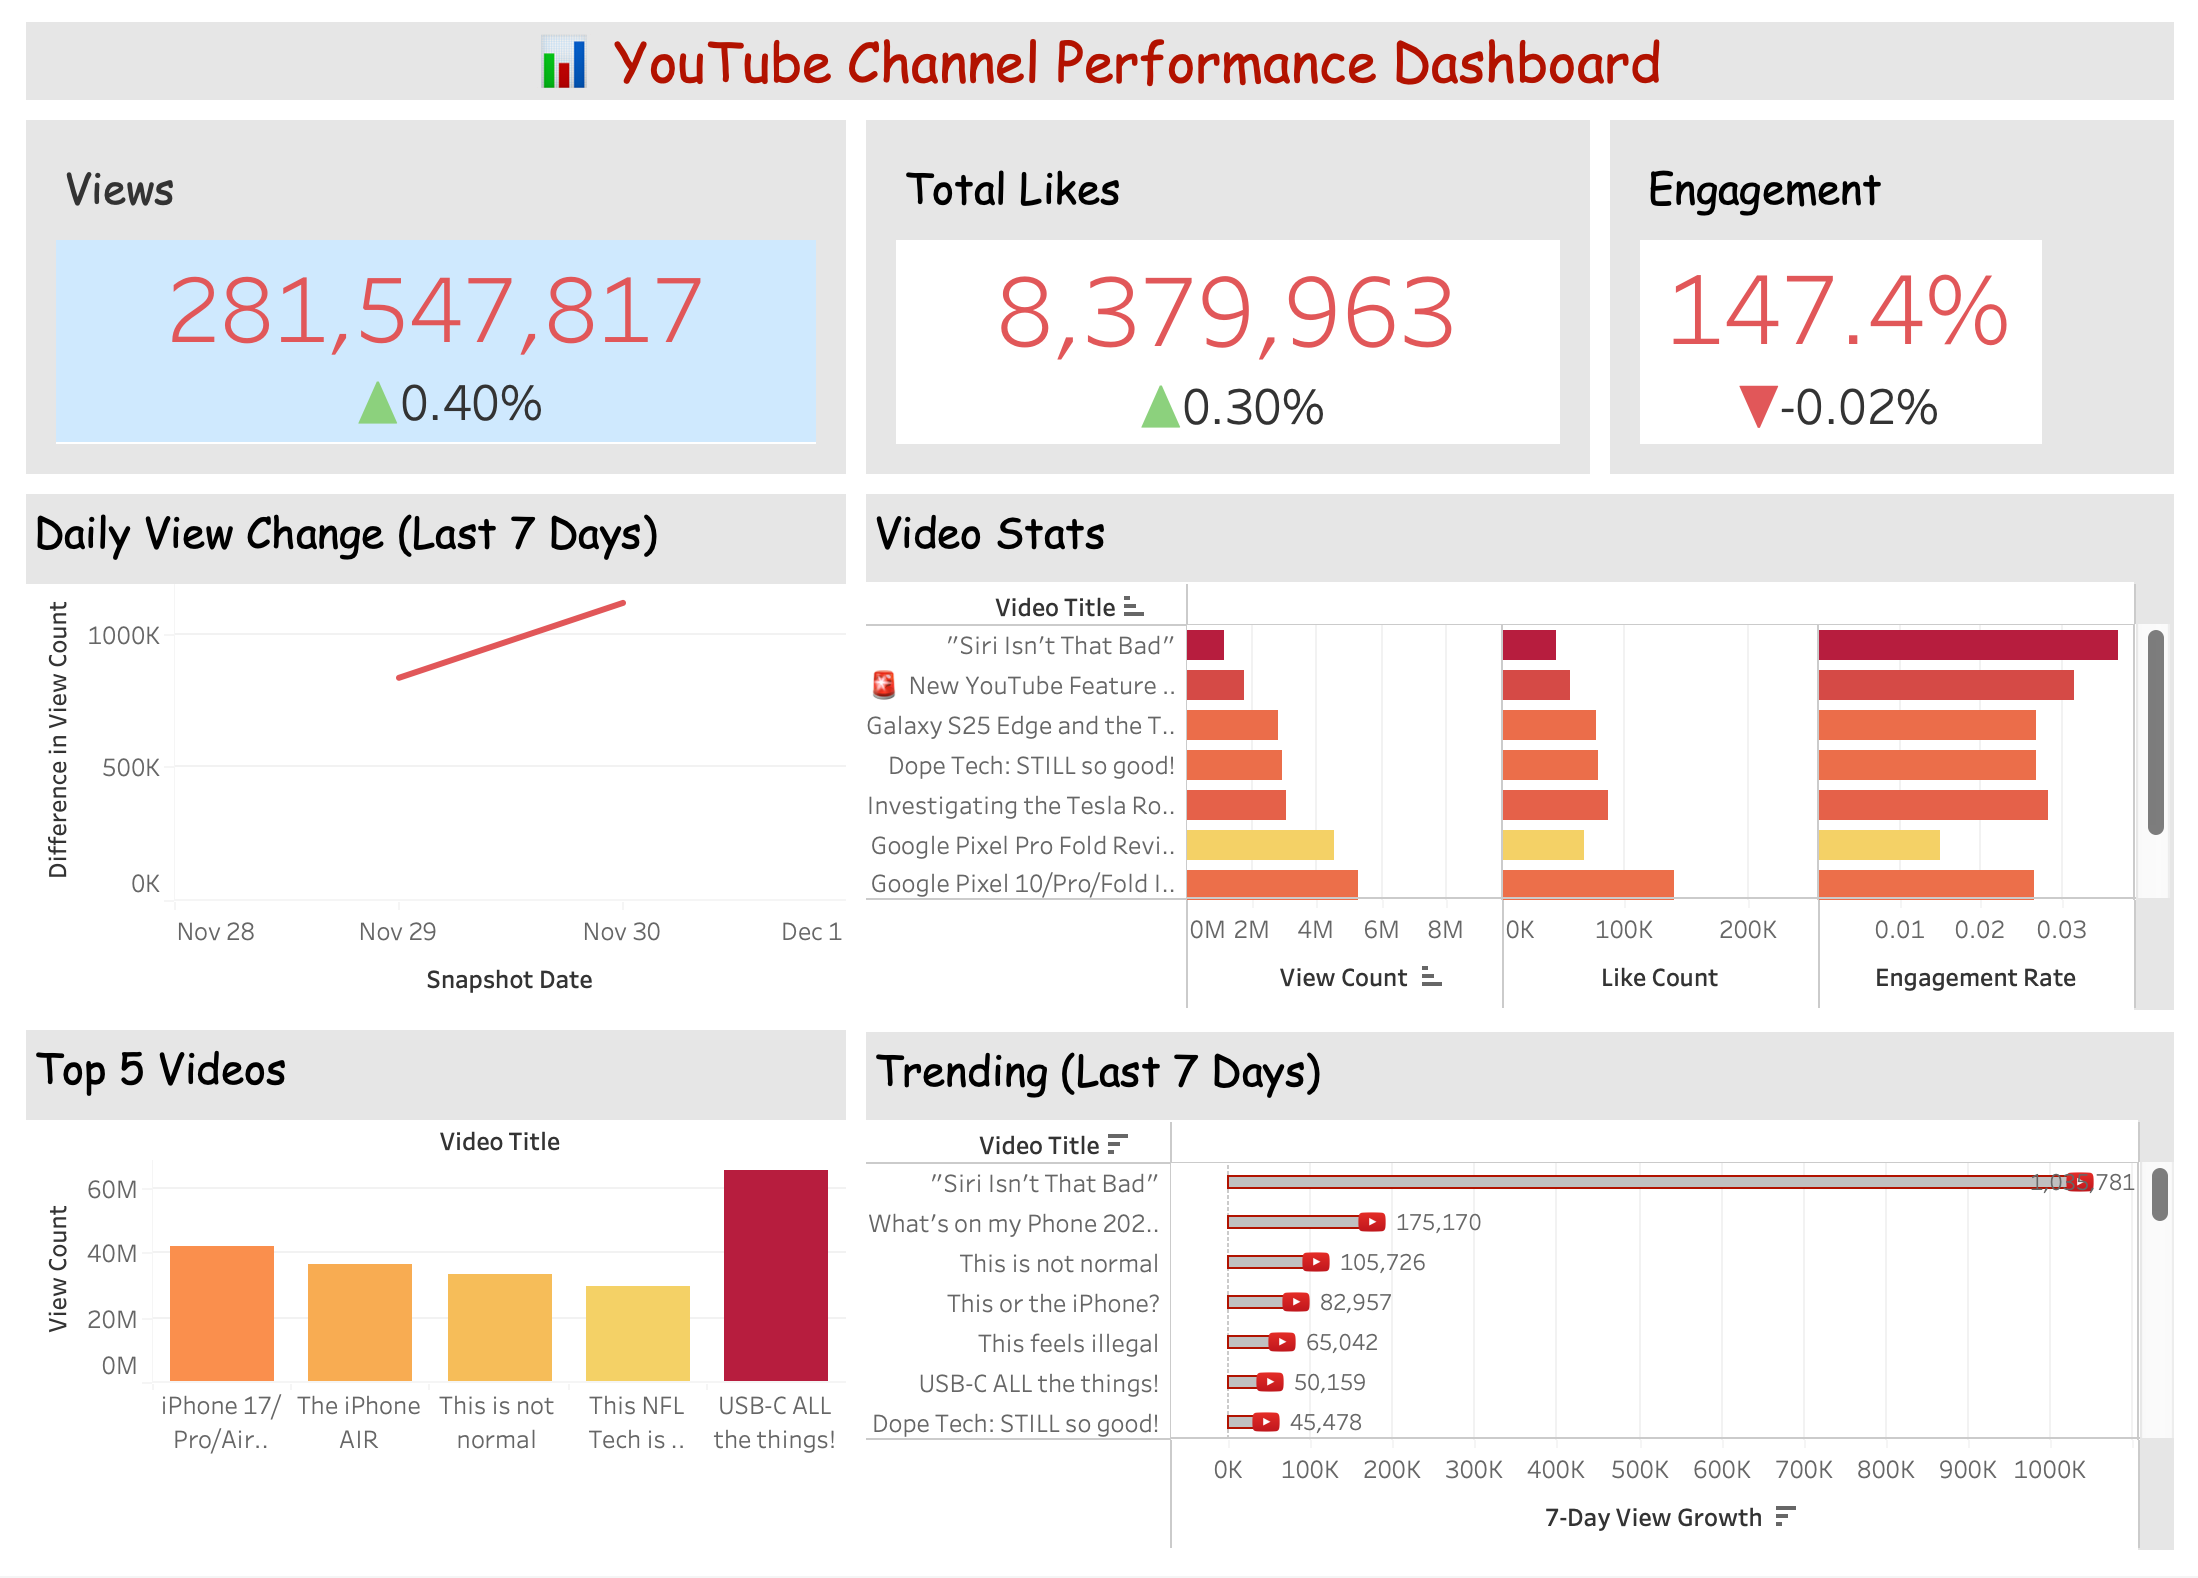

The page's visual inventory and layout, read from the dashboard file:
{"tool":"tableau","page":{"name":"Dashboard 1","canvas":[1000,800],"ordinal":0},"visuals":[{"type":"title","box":[8,8,984,49]},{"type":"worksheet","title":"Sheet 8","mark":"Automatic","box":[8,57,380.9,189.9]},{"type":"worksheet","title":"Sheet 3 (4)","mark":"Automatic","box":[388.9,57,338,189.9]},{"type":"worksheet","title":"Sheet 3 (3)","mark":"Automatic","box":[726.8,57,265.2,189.9]},{"type":"worksheet","title":"Sheet 10","mark":"Automatic","rows":["VIEW_COUNT"],"cols":["SNAPSHOT_DATE"],"box":[8,246.9,380.9,271.9]},{"type":"worksheet","title":"Sheet 6","mark":"Automatic","rows":["VIDEO_TITLE"],"cols":["VIEW_COUNT","LIKE_COUNT","Calculation_6011672195289731073"],"box":[388.9,246.9,603.1,272]},{"type":"worksheet","title":"Sheet 5","mark":"Bar","rows":["VIEW_COUNT"],"cols":["VIDEO_TITLE"],"box":[8,518.8,380.9,226]},{"type":"worksheet","title":"Sheet 7","mark":"Automatic","rows":["VIDEO_TITLE"],"cols":["Calculation_2277554785741885440","Calculation_2277554785741885440"],"box":[388.9,518.9,603.1,273.1]}]}

Visuals, with their boxes on the page's 1000x800 design canvas (x1, y1, x2, y2). These are canvas units, not pixel positions in the 2198x1578 screenshot, which may show the page scaled, cropped or inside an application window:
title: box=[8, 8, 992, 57]
"Sheet 8" worksheet: box=[8, 57, 389, 247]
"Sheet 3 (4)" worksheet: box=[389, 57, 727, 247]
"Sheet 3 (3)" worksheet: box=[727, 57, 992, 247]
"Sheet 10" worksheet: box=[8, 247, 389, 519]
"Sheet 6" worksheet: box=[389, 247, 992, 519]
"Sheet 5" worksheet (Bar marks): box=[8, 519, 389, 745]
"Sheet 7" worksheet: box=[389, 519, 992, 792]
